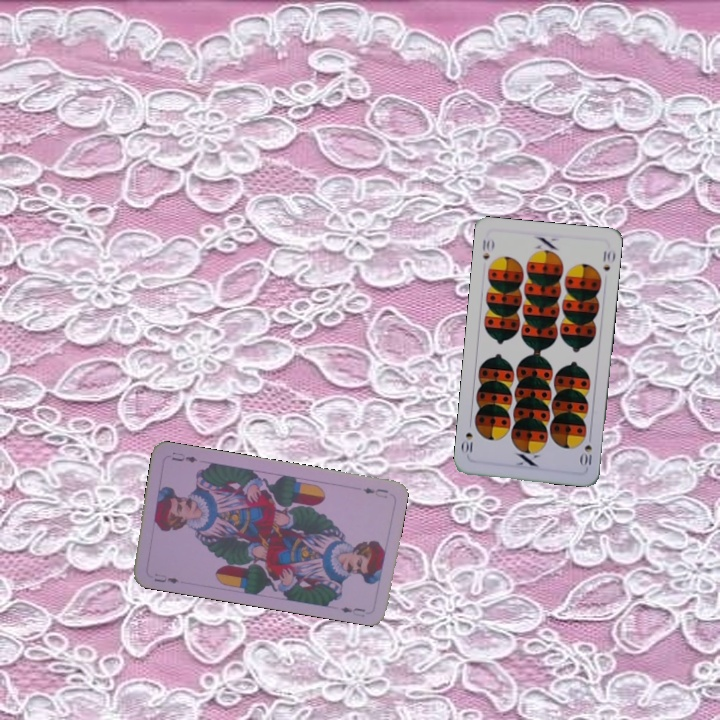EU: (359, 483, 390, 501), (150, 570, 181, 586)
S10: (478, 235, 496, 262), (577, 441, 594, 469)
